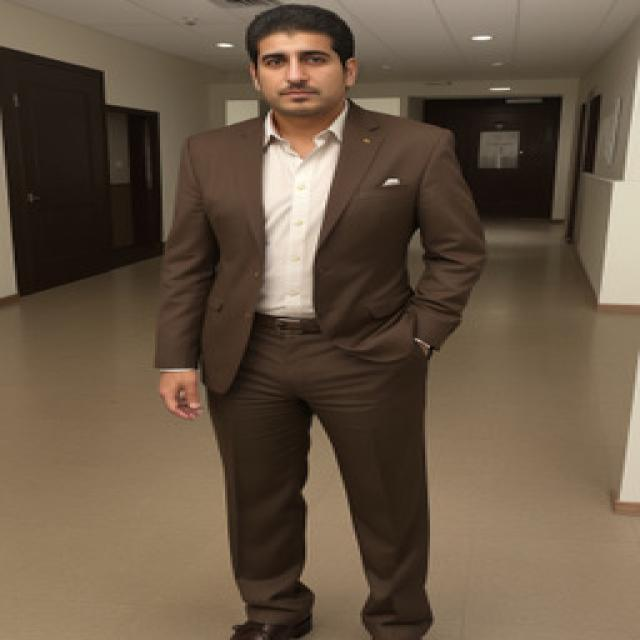Ai human 2: (132, 1, 512, 640)
